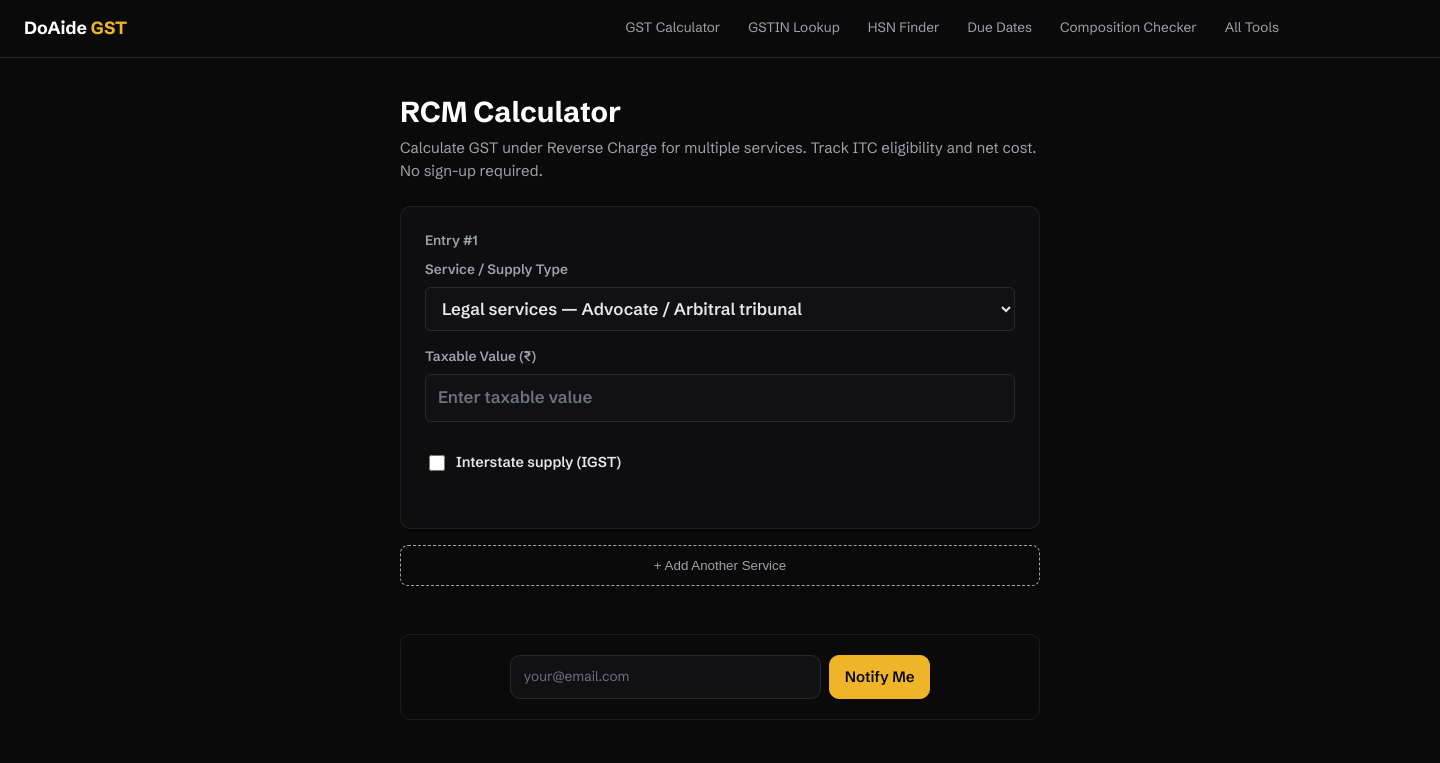
Test case: RCMCalculatorPage › adds and removes entries
Step 1. Click the button "+ Add Another Service" → (720, 566), box 400,545 -> 1040,586
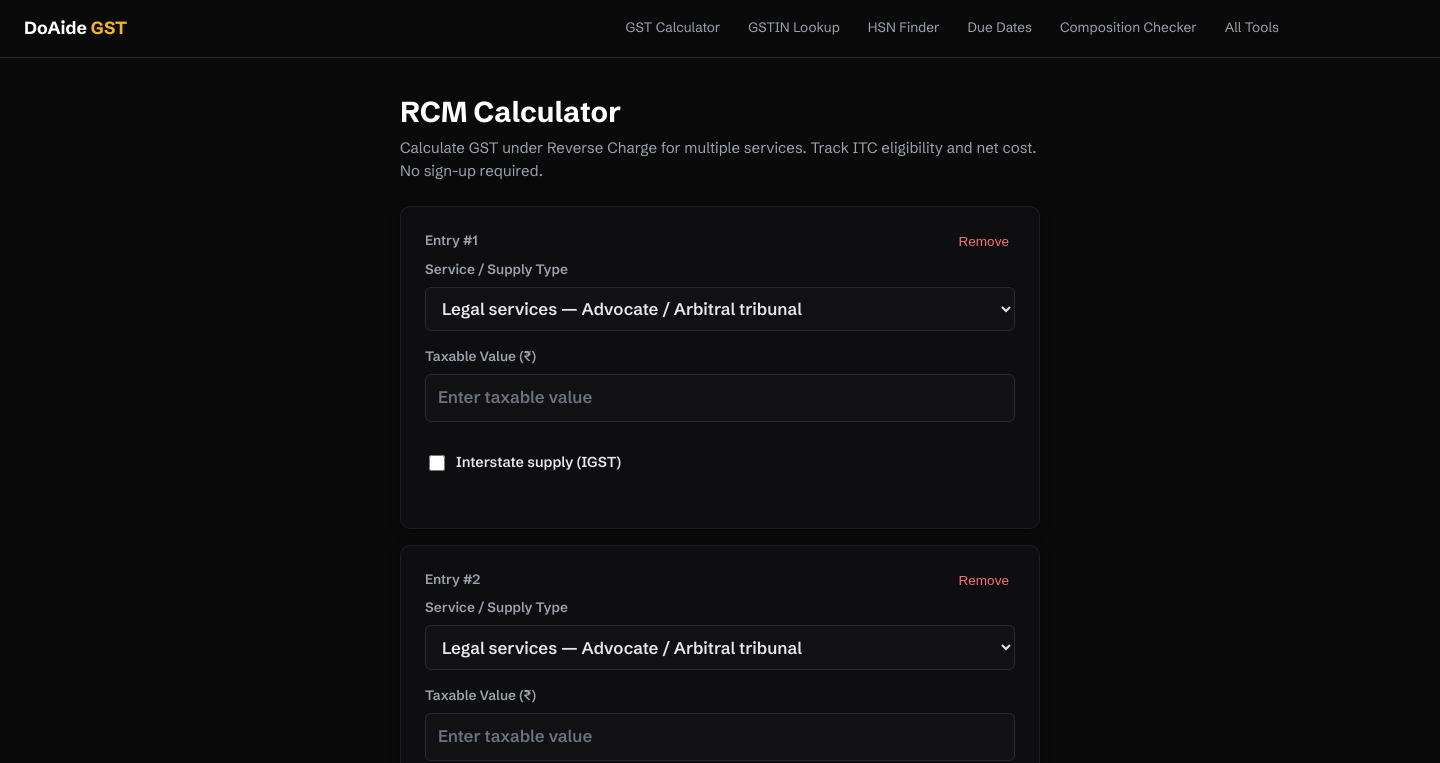
Expected: the text "Entry #1" is shown once, 425,231 -> 478,252
Expected: the text "Entry #2" is shown once, 425,570 -> 480,590
Step 2. Click the 2nd button "Remove" → (984, 580), box 952,572 -> 1015,589
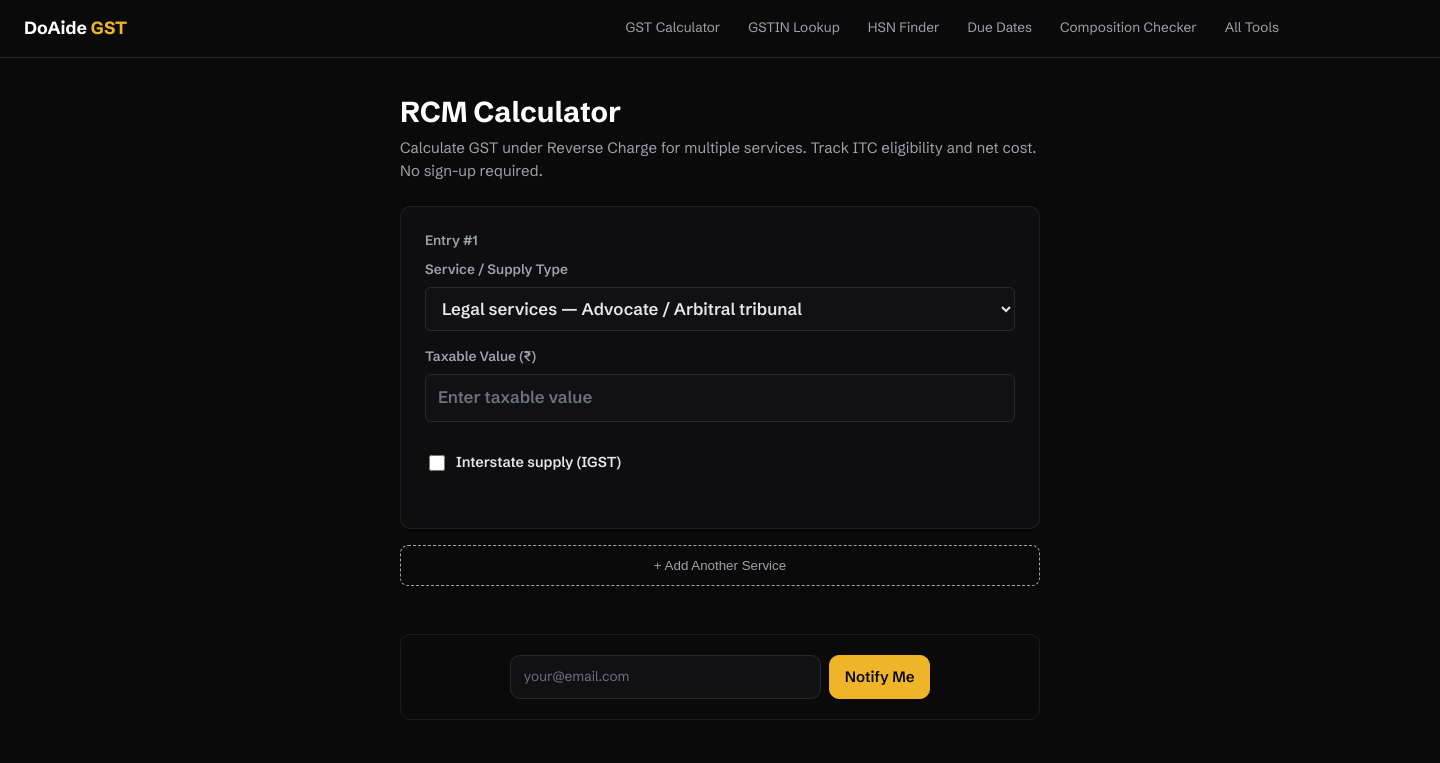
Expected: the text "Entry #2" is gone
